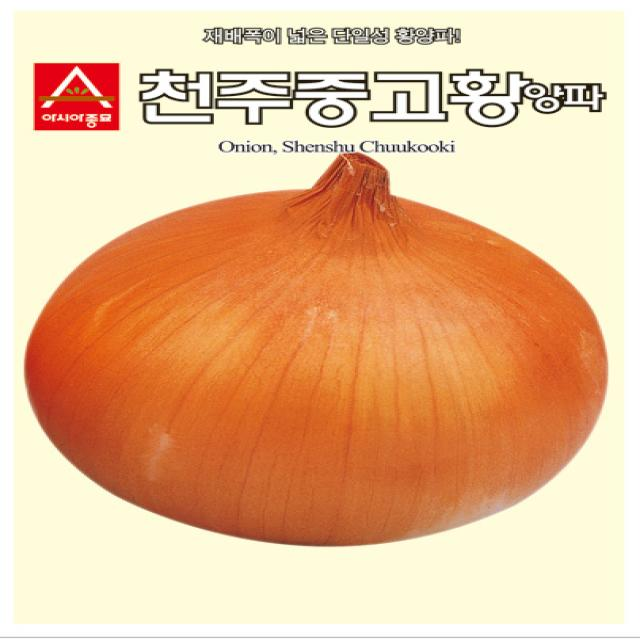onion: (22, 152, 610, 550)
